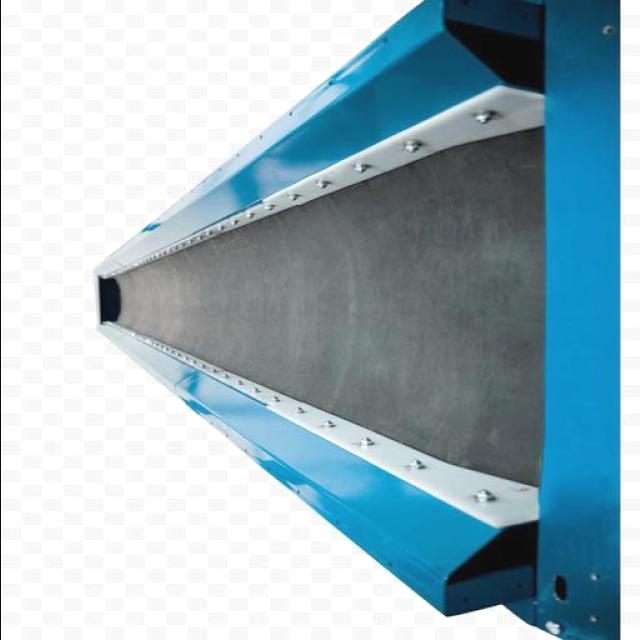conveyor: (104, 121, 538, 489)
